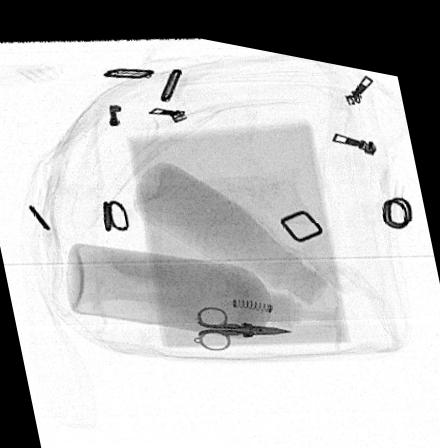Scissors: (195, 296, 292, 342)
